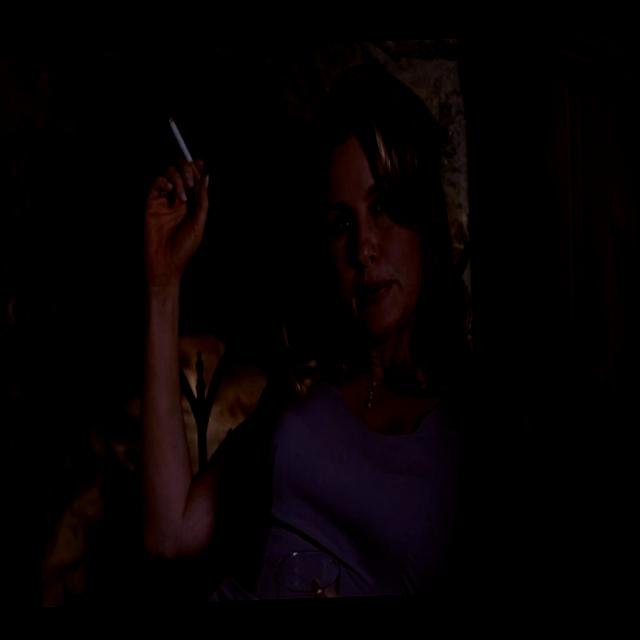smoke: (167, 110, 201, 189)
